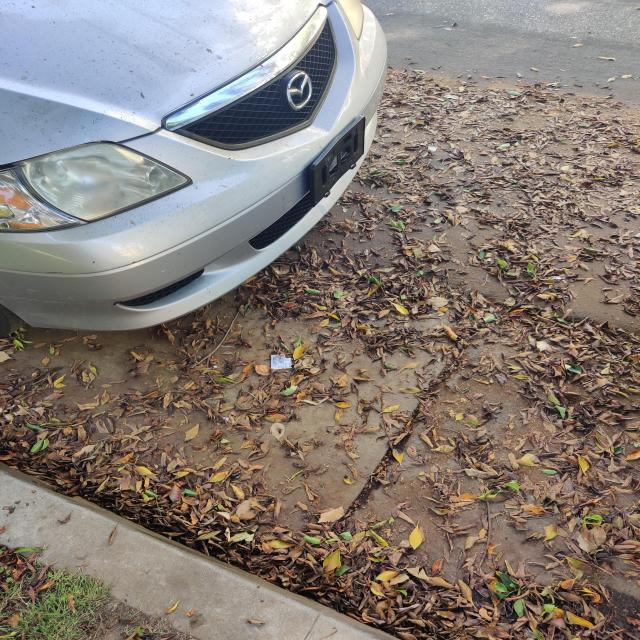litter: (272, 356, 296, 369)
